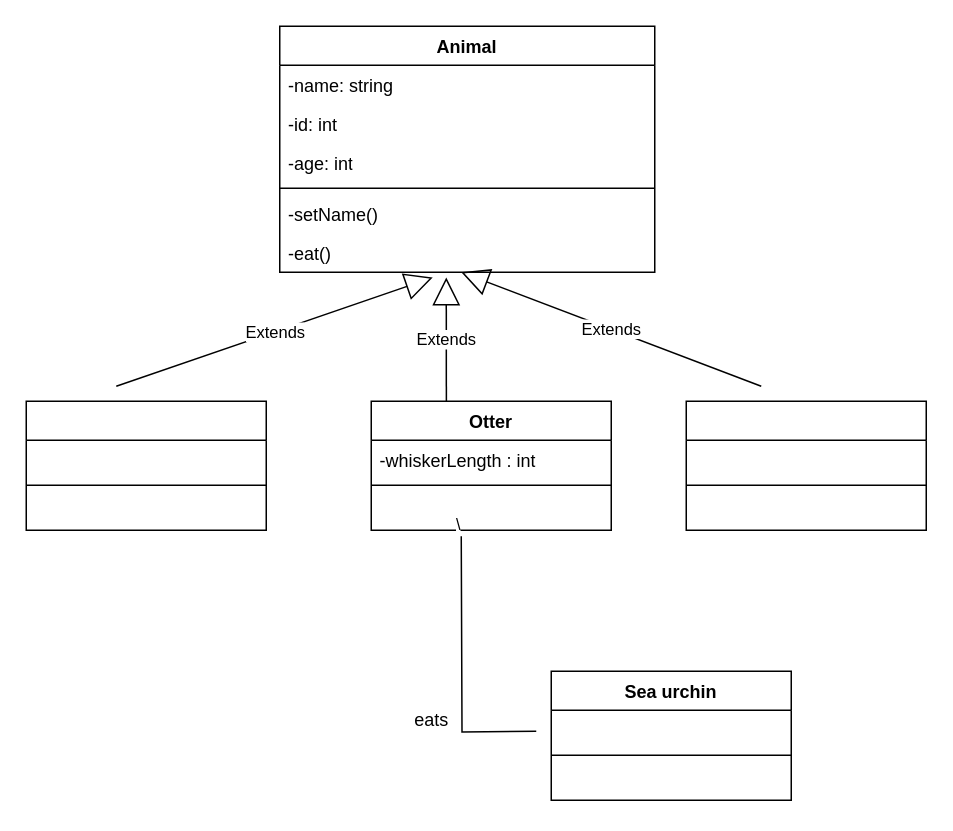
Some shapes in this 953 by 831 pixel diagram are drawn without their labels. The centre of each missing label's shape, as x and y in pixels:
"Slow Ioris" belongs at point 805,465.
"Tortoise" belongs at point 145,465.
